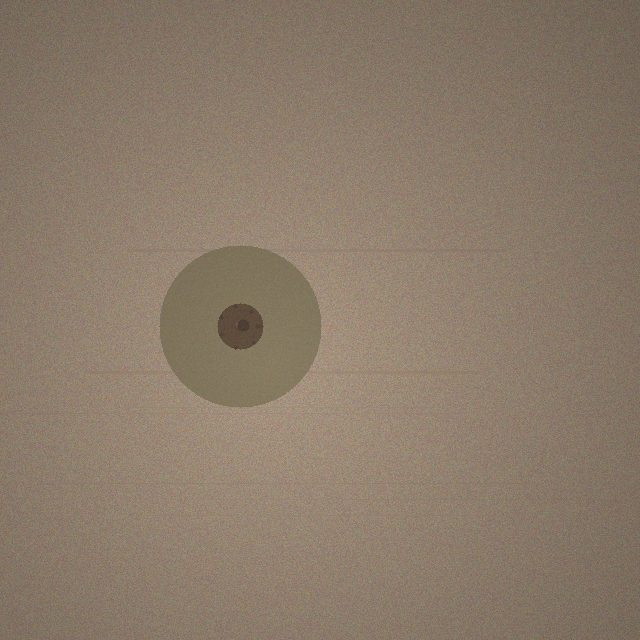cold_weld: (159, 245, 321, 407)
